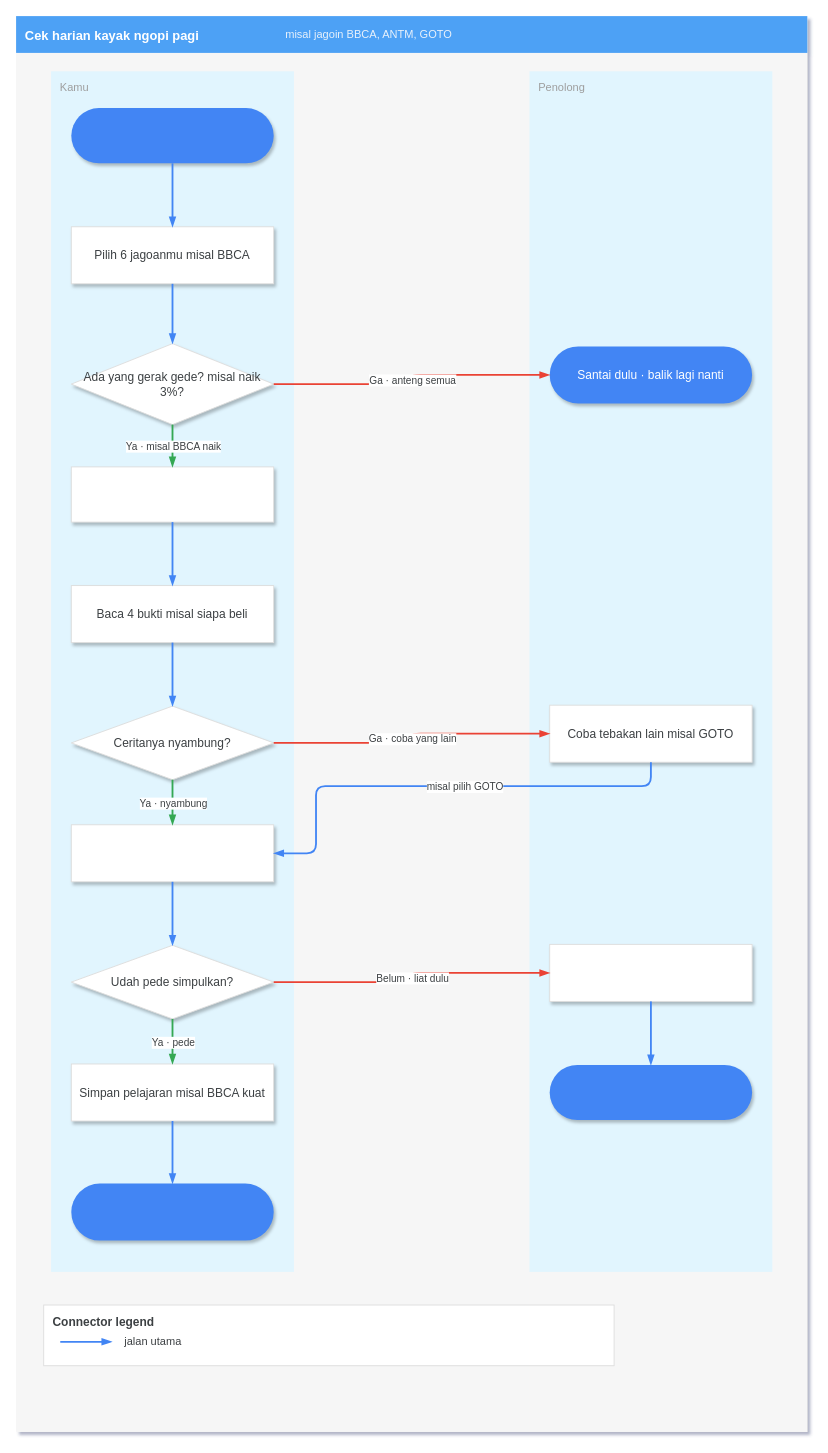
Image size: 828x1453. Some labels were removed from this diagram. Here are the shapes that lost their labels. From the top down, the centre of each, then its label:
At point (173, 136): "Buka Hari Ini".
At point (173, 495): "Buka bedahnya misal BBCA".
At point (173, 854): "Tanya yang kurang misal beritanya mana".
At point (651, 974): "Coret catatan · pantau dulu".
At point (651, 1093): "Beress · catatan kesimpen".
At point (173, 1213): "Beress · pelajaran kesimpen".
